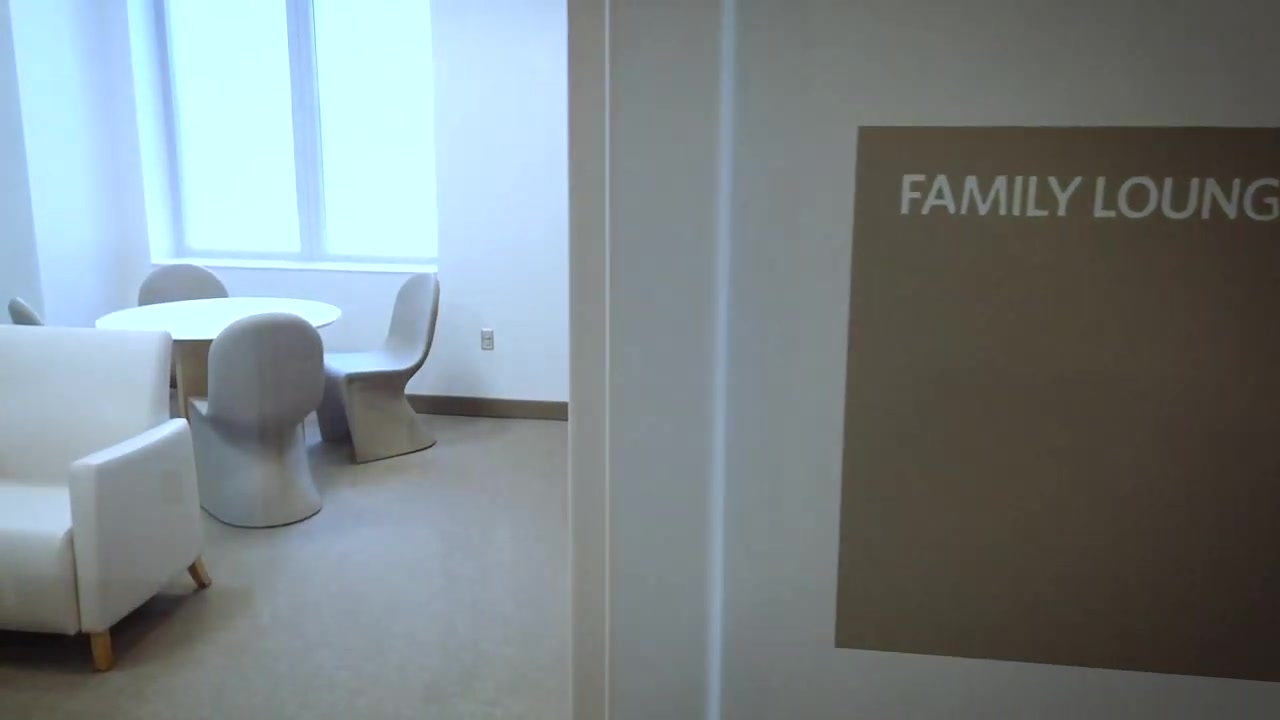chair: (187, 313, 325, 532), (316, 271, 442, 467), (134, 264, 233, 307)
sofa: (1, 326, 212, 673)
table: (94, 295, 343, 418)
